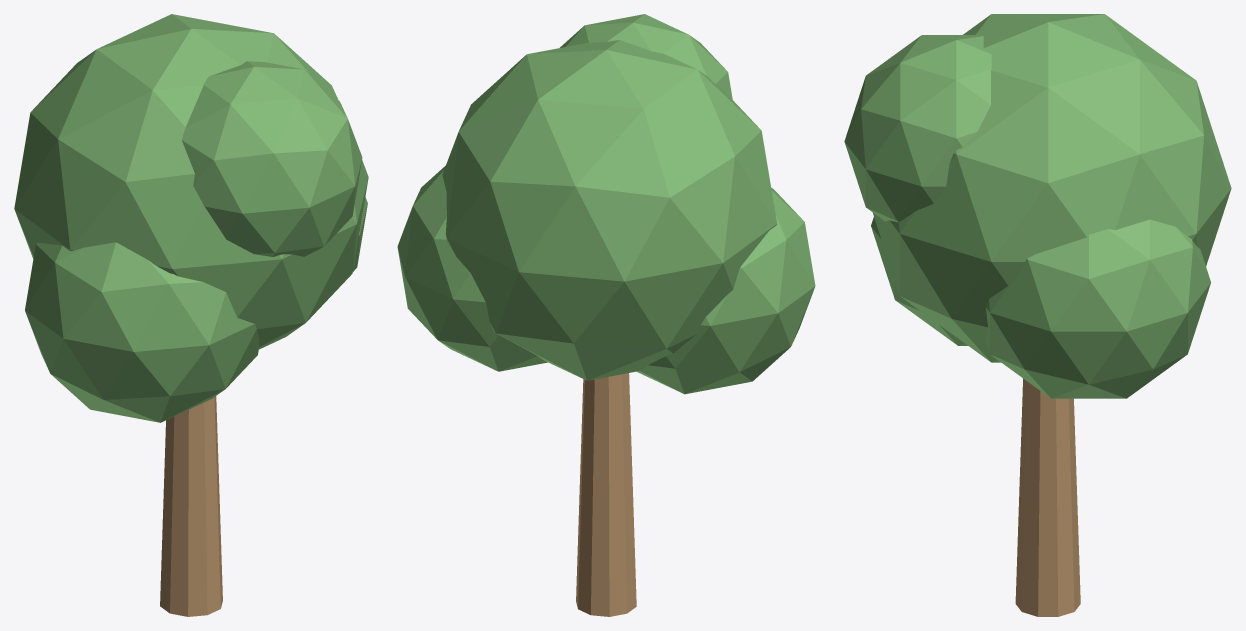
Rendered from HOB_Tree_Round.fbx.
3 renders of one model, left to right at view 1: azimuth 30°, elevation 25°; view 2: azimuth 150°, elevation 25°; view 3: azimuth 270°, elevation 25°, orthographic. The views are drawn at different scales.
Visible parts, largest first — view 1: HOB_Tree_Round; view 2: HOB_Tree_Round; view 3: HOB_Tree_Round.
Part boxes in pixels (left/top/right/bottom): HOB_Tree_Round: left=14, top=14, right=368, bottom=616; HOB_Tree_Round: left=397, top=14, right=815, bottom=616; HOB_Tree_Round: left=844, top=14, right=1231, bottom=616.
Size of the model in its own units: 201 by 315 by 190.
